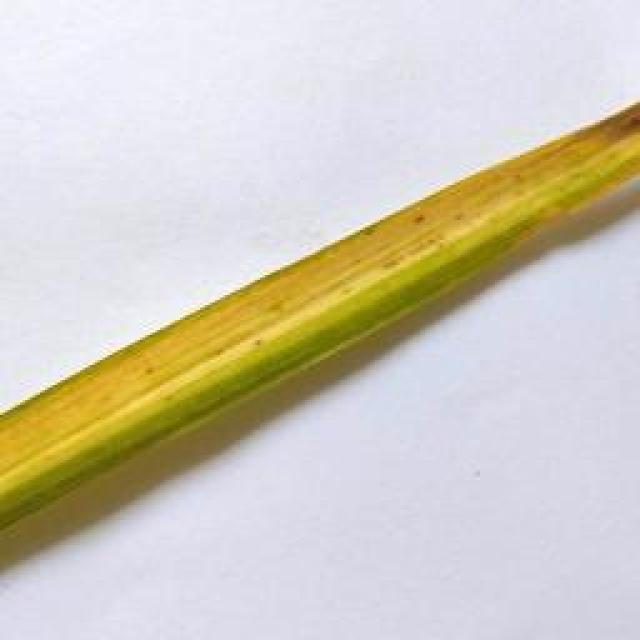Bacterial_Blight: (2, 90, 640, 520)
